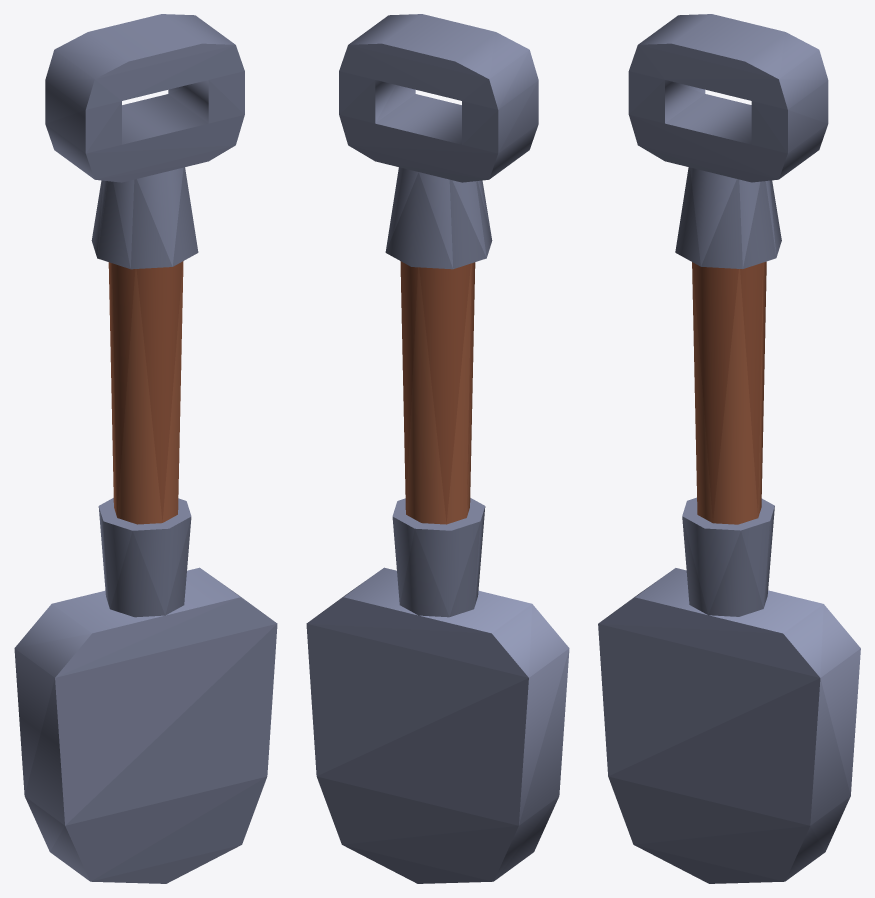
File: pirate_tool_shovel.glb
3 views of the same model, side by side, from view 1: azimuth 30°, elevation 25°; view 2: azimuth 150°, elevation 25°; view 3: azimuth 330°, elevation 25° (orthographic).
Visible parts, largest first — view 1: pirate_tool_shovel; view 2: pirate_tool_shovel; view 3: pirate_tool_shovel.
Boxes of the visible parts, x1,y1,x2,y2 form: pirate_tool_shovel: [14, 14, 277, 883]; pirate_tool_shovel: [306, 14, 569, 883]; pirate_tool_shovel: [598, 14, 860, 883].
Bounding box in the file's own units: 0.6578 × 2.35 × 0.2829.
